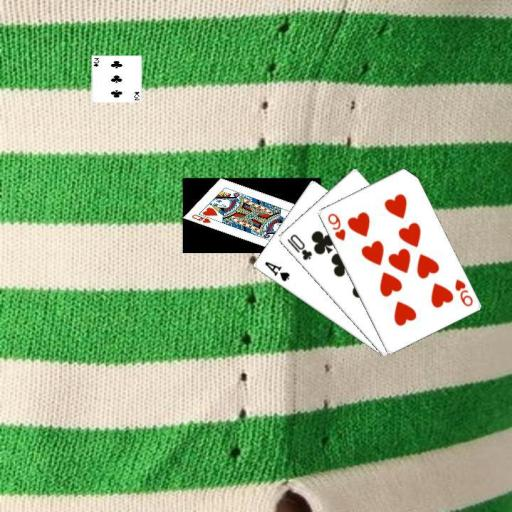10C: (284, 231, 314, 262)
9H: (324, 210, 347, 242), (452, 276, 475, 308)
AS: (261, 258, 291, 283)
